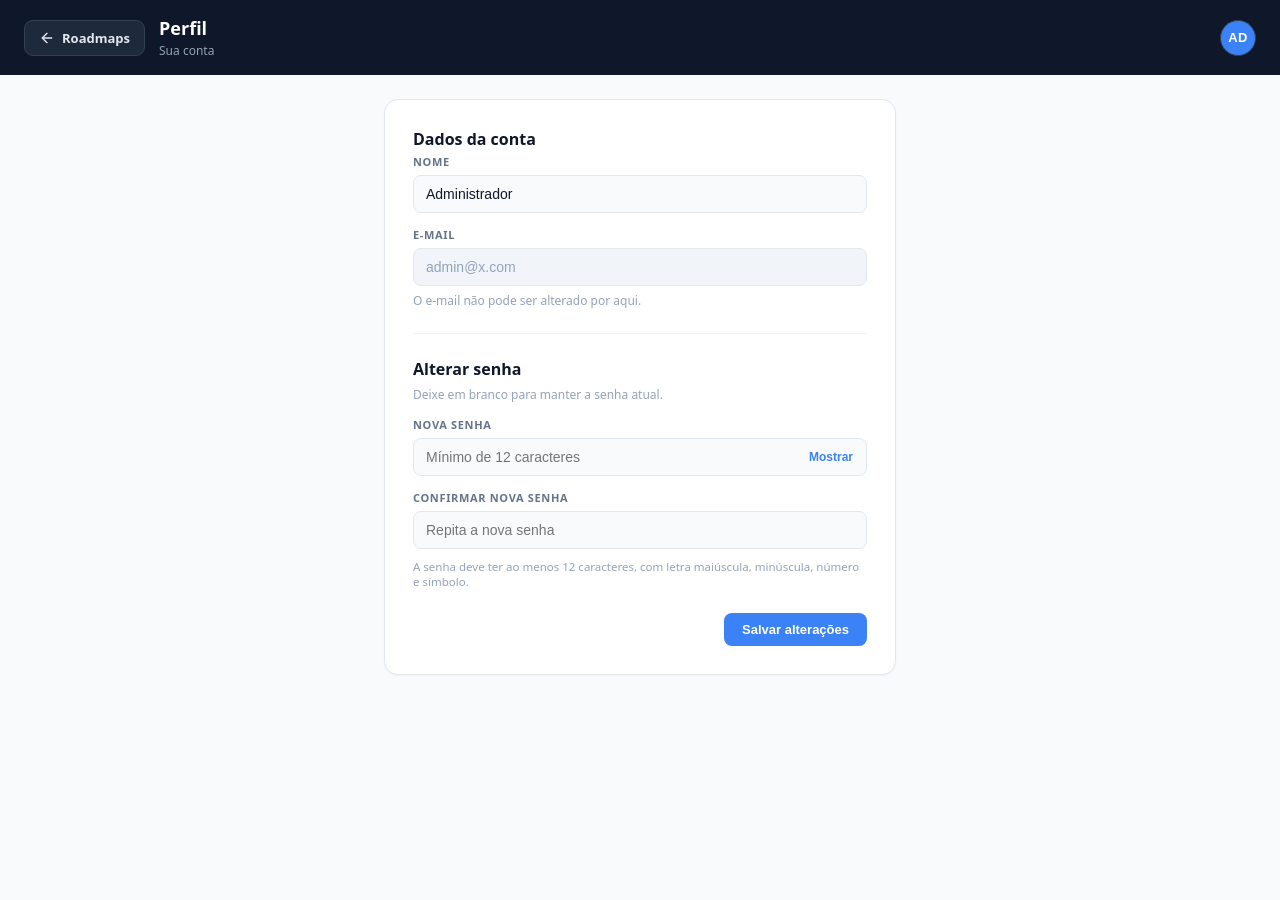
Test: Profile › bloqueia quando as senhas não conferem
Type "NovaSenha123!" into the password field with placeholder "Mínimo de 12 caracteres" at (640, 457), box [413, 438, 867, 476]
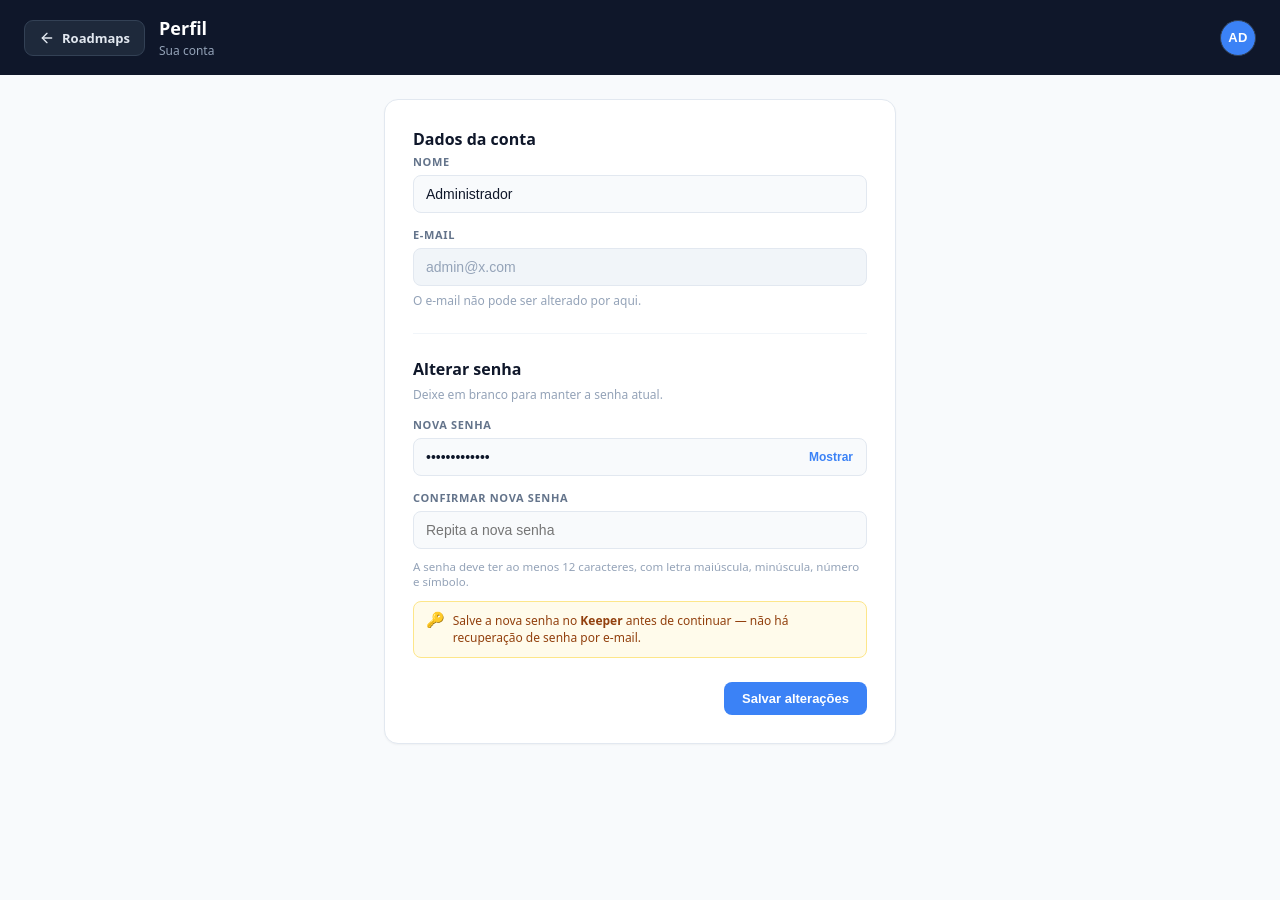
Type "OutraSenha123!" into the password field with placeholder "Repita a nova senha" at (640, 530), box [413, 511, 867, 549]
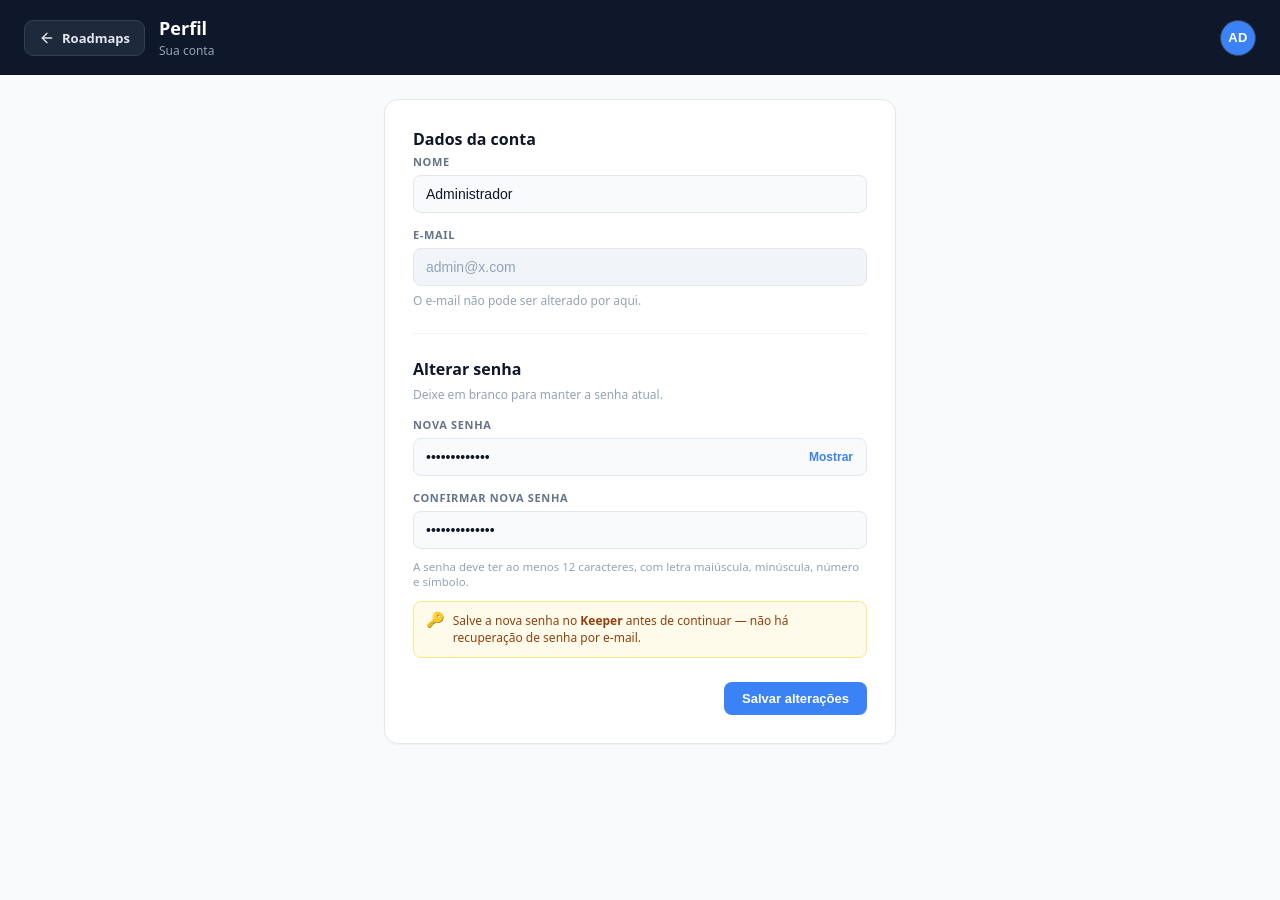
Click the button "Salvar alterações" at (796, 698), box [724, 682, 867, 715]
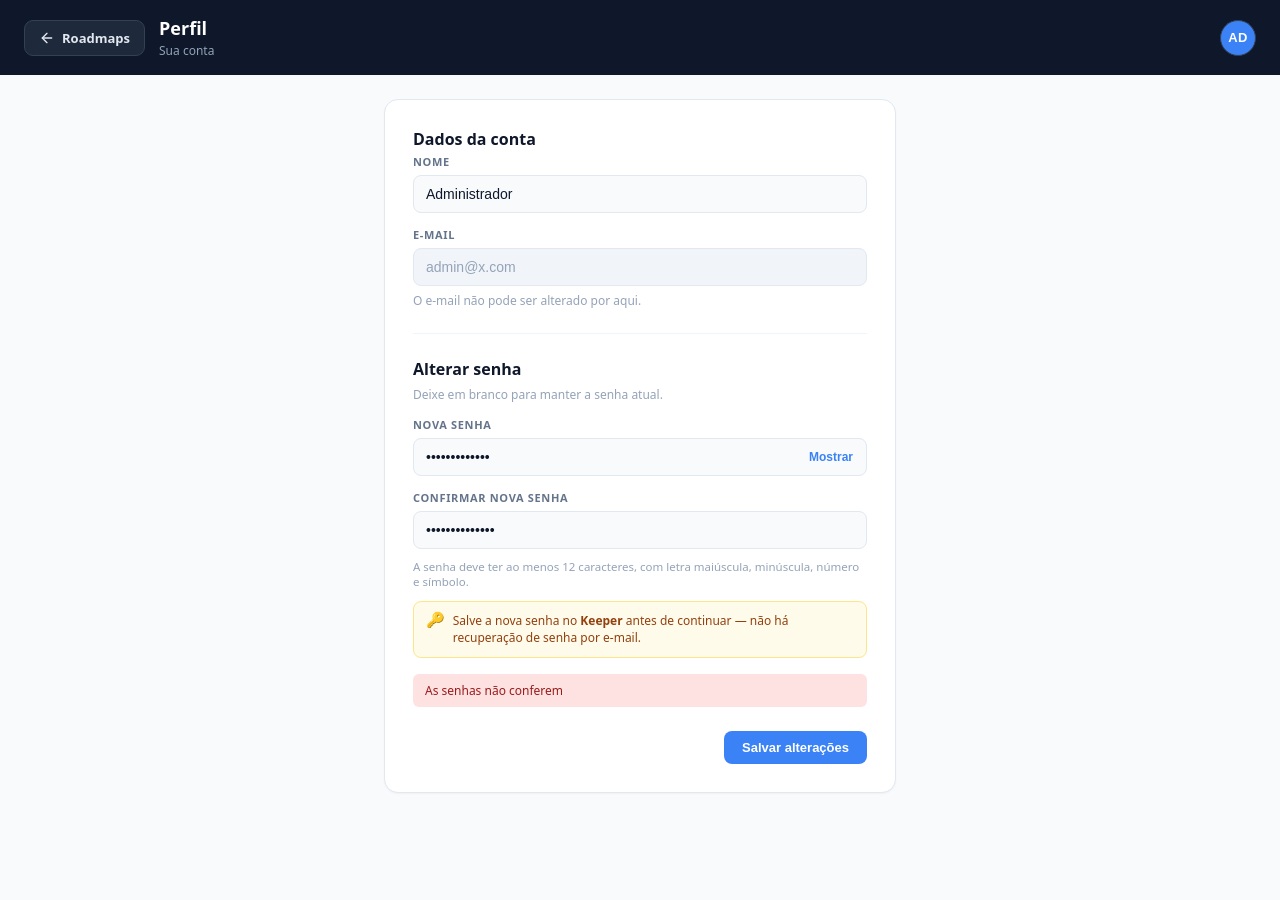
Expected: the text "As senhas não conferem" is shown, [413, 674, 867, 707]
